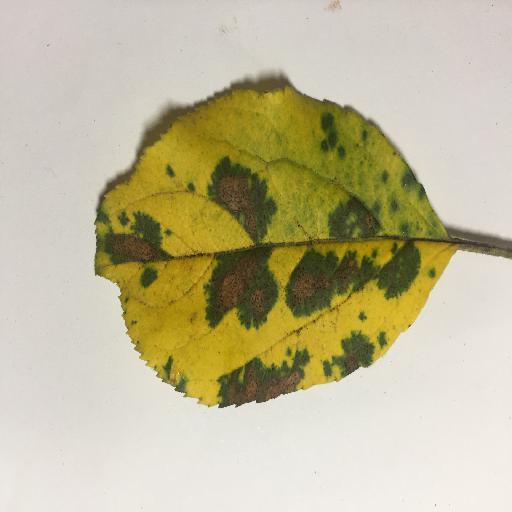Brown_Spot: (291, 252, 399, 298), (207, 168, 262, 239), (217, 258, 270, 309), (103, 226, 160, 265), (223, 365, 292, 396), (326, 203, 376, 235), (334, 353, 365, 368)
